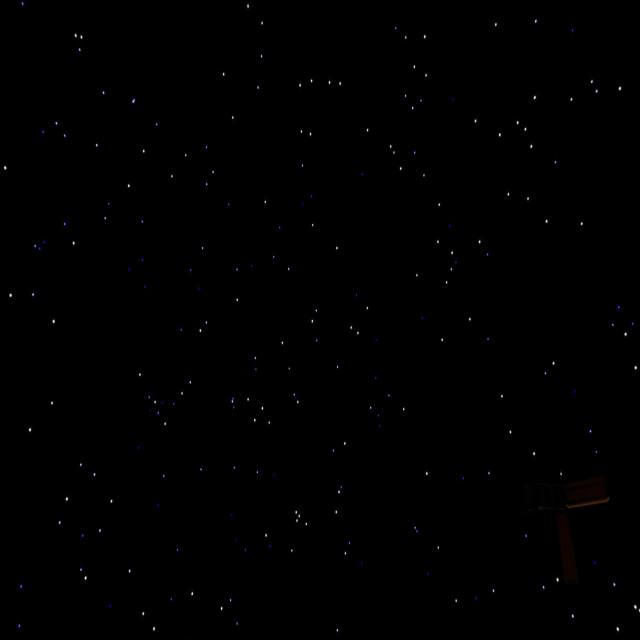satellite: (546, 468, 614, 599)
